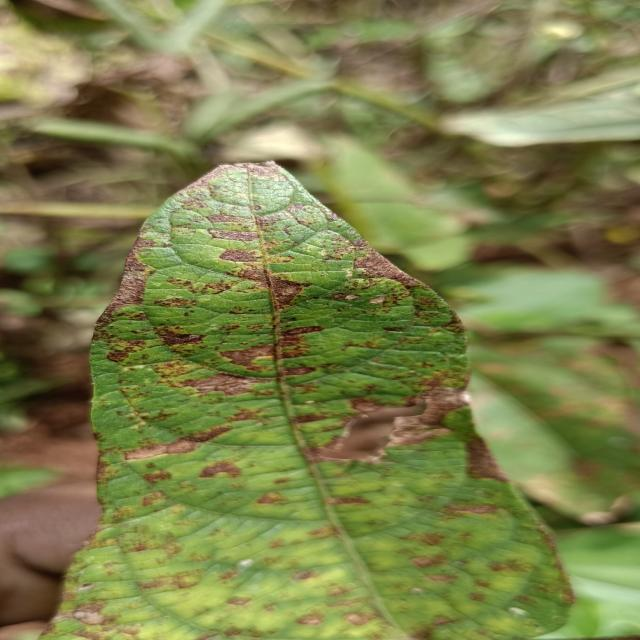Black gram_leaf spot: (67, 155, 579, 640)
